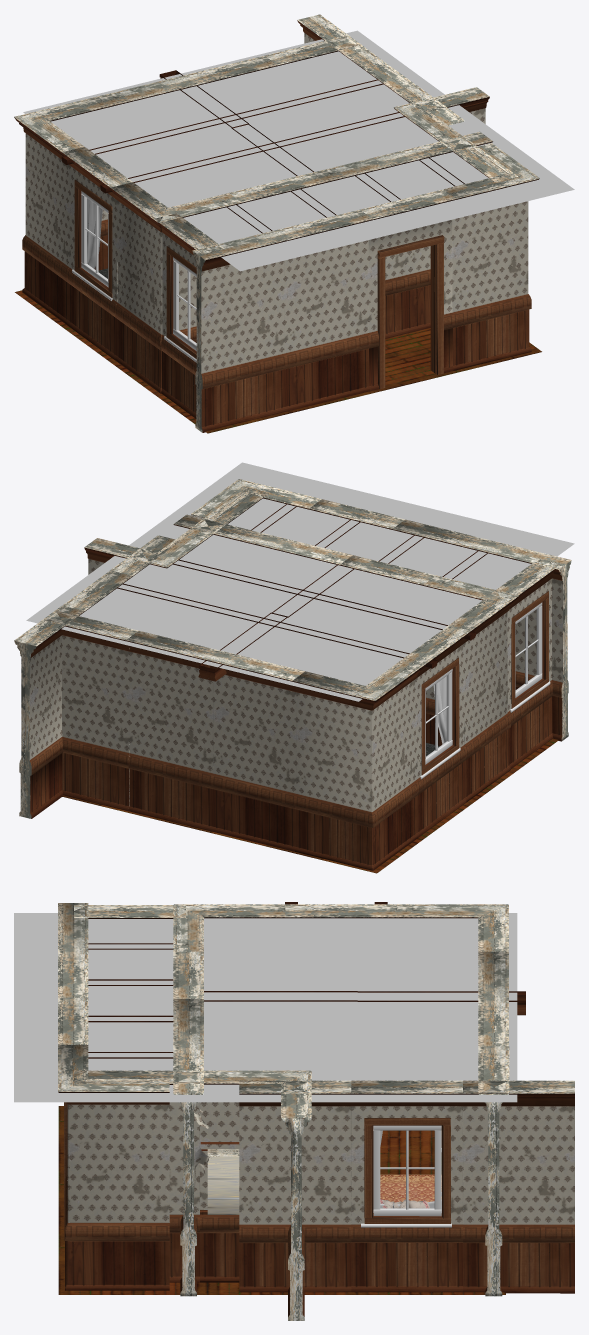
Rendered from Bathroom.fbx.
The picture shows the model from 3 angles, top to bottom: view 1: azimuth 30°, elevation 25°; view 2: azimuth 150°, elevation 25°; view 3: azimuth 270°, elevation 25°; orthographic projection. The views are drawn at different scales.
Visible parts, largest first — view 1: Selling_top.001, Wall_Clear_long.002, Wall_Corner.004, Wall_Corner.001, Wall_Corner.002, Wall_Doorway_Door.002, Wall_Window.002, Wall_Dam1_long.001, Wall_Window.003, Floor tile.001, Wall_Clear_long.001, Wall_corner_shelf.001 (+8 smaller); view 2: Selling_top.001, Wall_Clear_long.001, Wall_Corner.002, Wall_Clear_Short.003, Wall_Corner.001, Wall_Clear_Short.001, Wall_Window.002, Wall_Window.003, Wall_Clear_long.002, Wall_Dam1_long.001, Wall_corner_shelf.001, Selling_holder_Small.001 (+9 smaller); view 3: Selling_top.001, Wall_Corner.004, Wall_Clear_Short.001, Wall_Clear_Short.002, Wall_Window.001, Wall_corner_shelf.001, Wall_Dam1_long.001, Floor tile.001, Wall_Clear_Short.004, Wall_Clear_Short.003, Wall_Clear_long.001, Wall_Clear_long.002 (+10 smaller).
Part boxes in pixels (box(x1,y1,x2,y2)): Selling_top.001: box(23, 30, 574, 271); Wall_Clear_long.002: box(192, 209, 372, 432); Wall_Corner.004: box(444, 143, 539, 370); Wall_Corner.001: box(110, 182, 241, 393); Wall_Corner.002: box(14, 96, 110, 324); Wall_Doorway_Door.002: box(360, 189, 456, 391); Wall_Window.002: box(62, 146, 132, 359); Wall_Dam1_long.001: box(313, 131, 492, 338); Wall_Window.003: box(154, 213, 224, 418); Floor tile.001: box(15, 290, 541, 433); Wall_Clear_long.001: box(97, 55, 277, 268); Wall_corner_shelf.001: box(393, 87, 489, 142); Selling_top.001: box(26, 462, 574, 701); Wall_Clear_long.001: box(126, 631, 304, 851); Wall_Corner.002: box(292, 660, 422, 870); Wall_Clear_Short.003: box(43, 610, 138, 811); Wall_Corner.001: box(423, 575, 518, 802); Wall_Clear_Short.001: box(14, 605, 84, 818); Wall_Window.002: box(401, 625, 470, 837); Wall_Window.003: box(491, 559, 560, 768); Wall_Clear_long.002: box(392, 519, 571, 741); Wall_Dam1_long.001: box(173, 514, 352, 565); Wall_corner_shelf.001: box(84, 527, 214, 574); Selling_holder_Small.001: box(117, 559, 475, 668); Selling_top.001: box(14, 913, 517, 1102); Wall_Corner.004: box(58, 1044, 169, 1290); Wall_Clear_Short.001: box(463, 1080, 574, 1293); Wall_Clear_Short.002: box(239, 1080, 351, 1292); Wall_Window.001: box(351, 1080, 462, 1292); Wall_corner_shelf.001: box(200, 1070, 311, 1320); Wall_Dam1_long.001: box(173, 999, 211, 1296); Floor tile.001: box(58, 1106, 505, 1294); Wall_Clear_Short.004: box(74, 1070, 199, 1282); Wall_Clear_Short.003: box(478, 1046, 509, 1296); Wall_Clear_long.001: box(478, 951, 508, 1046); Wall_Clear_long.002: box(58, 903, 88, 997).
Bounding box in the file's own units: 6.86 × 3.09 × 7.52.
